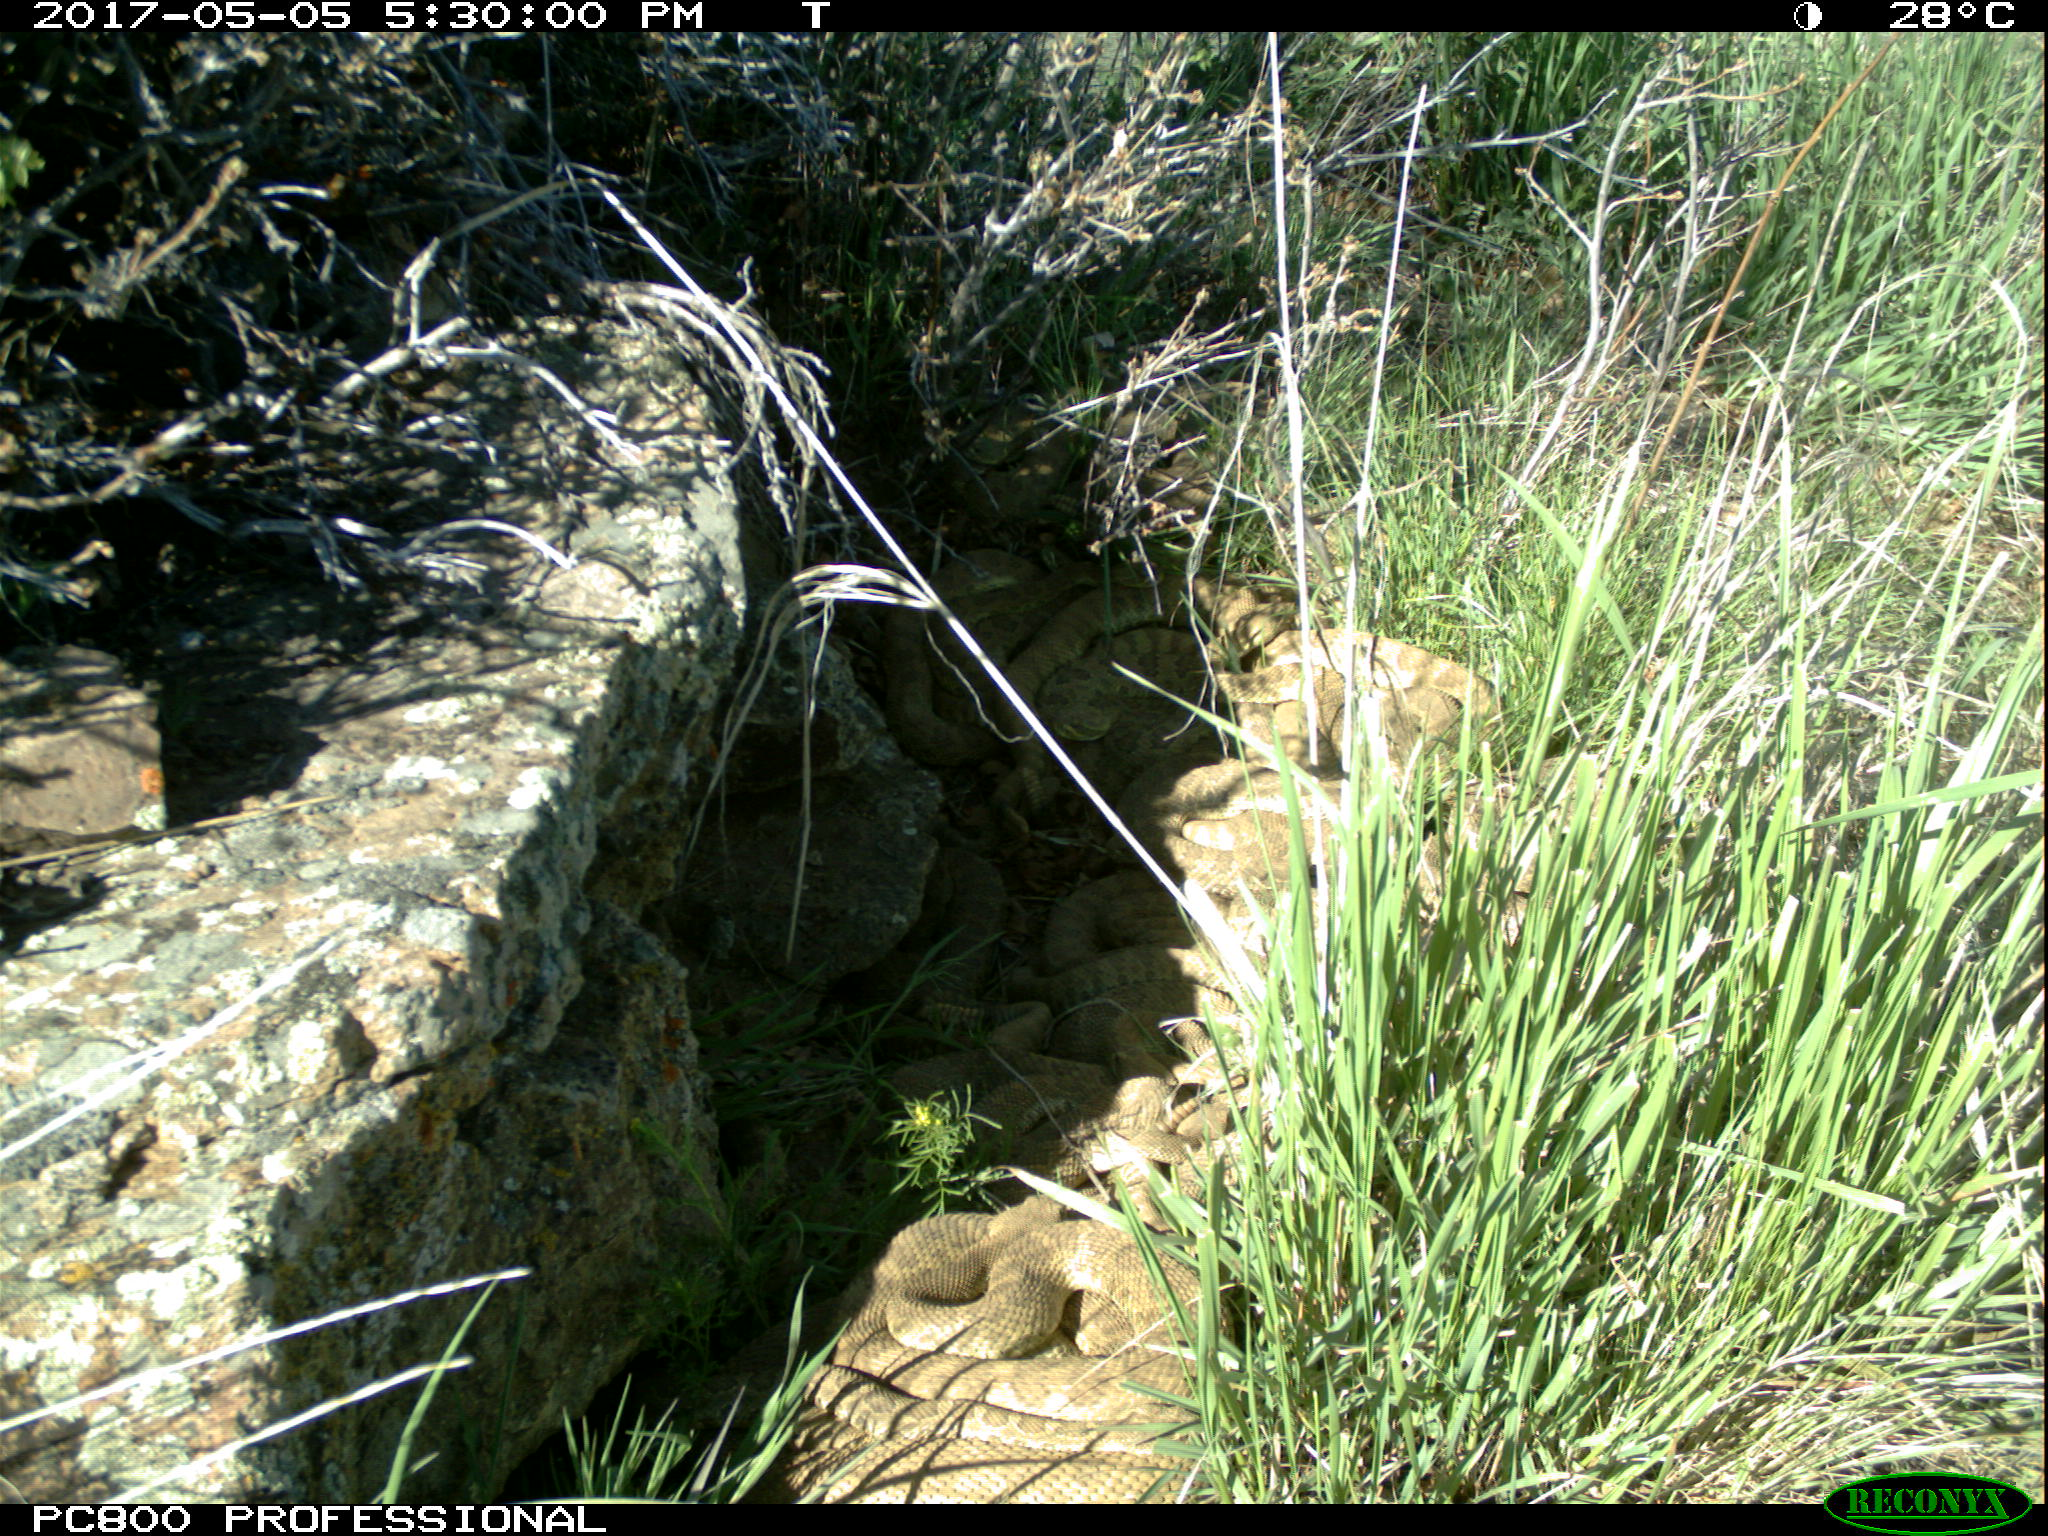snake: (777, 1192, 1218, 1502), (893, 952, 1253, 1199), (910, 549, 1284, 750), (1174, 599, 1529, 758), (1035, 884, 1269, 1117), (1093, 763, 1372, 886)
